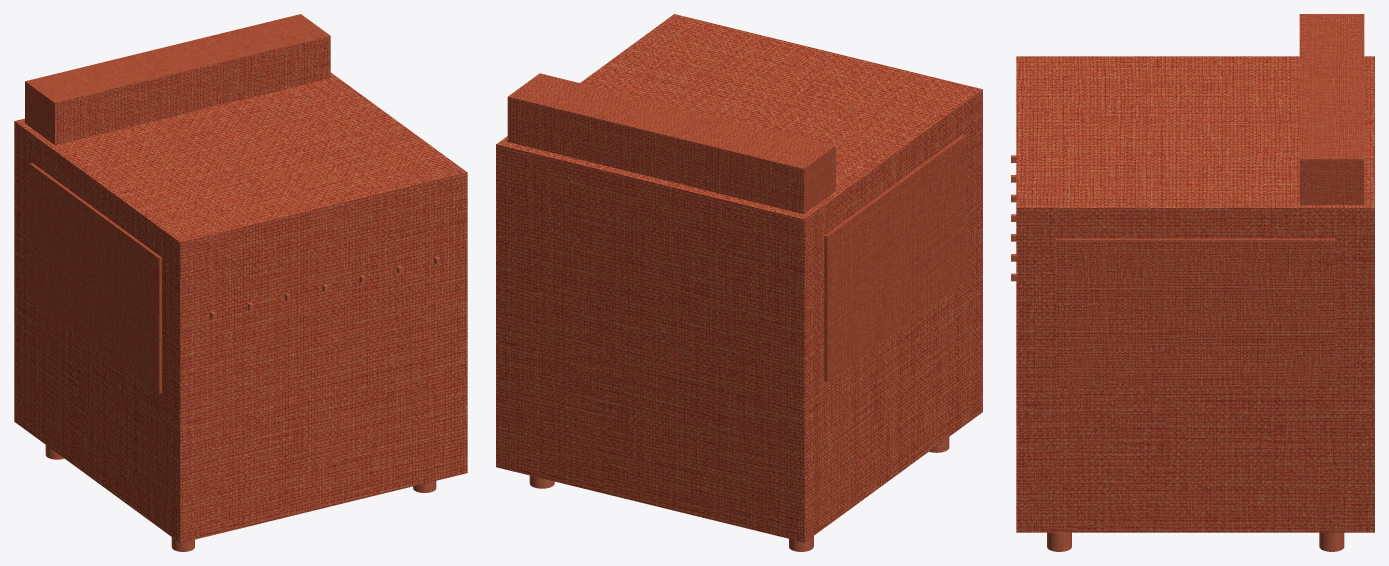
The model's file is sofa.gltf.
3 views of the same model, side by side, from view 1: azimuth 30°, elevation 25°; view 2: azimuth 150°, elevation 25°; view 3: azimuth 270°, elevation 25° (orthographic). The views are drawn at different scales.
Visible parts, largest first — view 1: body, back, armL; view 2: body, back, armL; view 3: body, armR, back, foot_1, foot_3.
Boxes of the visible parts, x1=… form: body: x1=14, y1=72, x2=467, y2=542; back: x1=25, y1=14, x2=330, y2=144; armL: x1=29, y1=163, x2=161, y2=393; body: x1=496, y1=14, x2=982, y2=542; back: x1=507, y1=73, x2=835, y2=214; armL: x1=824, y1=134, x2=966, y2=381; body: x1=1016, y1=56, x2=1374, y2=532; armR: x1=1056, y1=238, x2=1335, y2=386; back: x1=1299, y1=14, x2=1364, y2=204; foot_1: x1=1319, y1=532, x2=1344, y2=551; foot_3: x1=1047, y1=532, x2=1071, y2=551.
Bounding box in the file's own units: 1.02 × 1.22 × 1.02.
3 materials, 3 textured.
